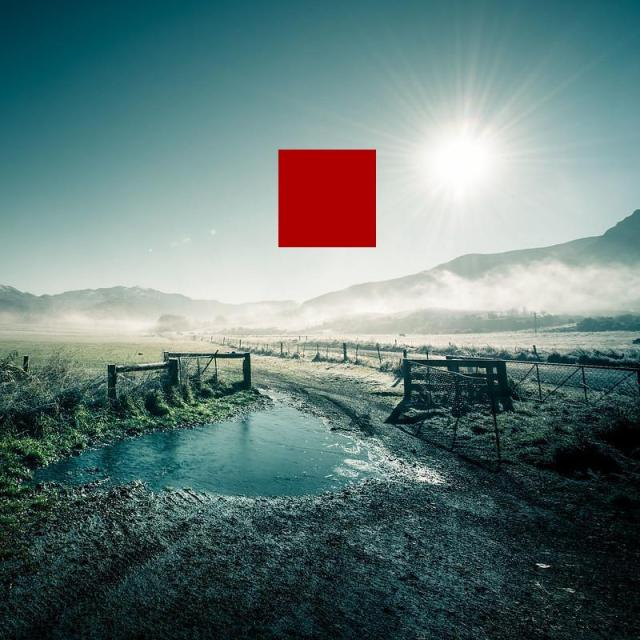RedSquare: (276, 141, 382, 253)
